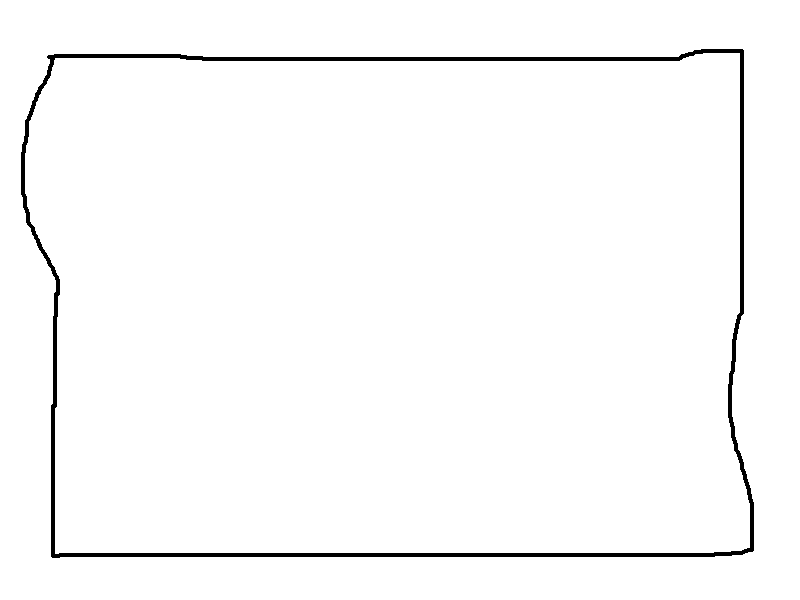rect: (18, 44, 757, 564)
